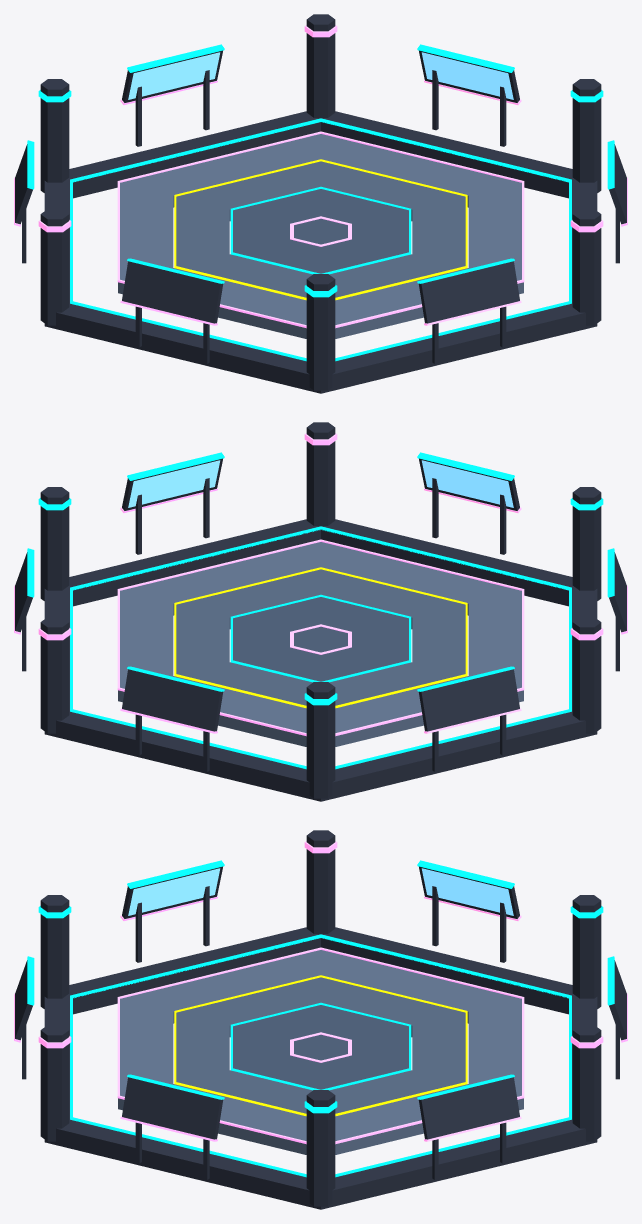
The model's file is sumo_arena.glb.
The picture shows the model from 3 angles, top to bottom: view 1: azimuth 30°, elevation 25°; view 2: azimuth 150°, elevation 25°; view 3: azimuth 270°, elevation 25°; orthographic projection.
Parts seen in each view (by area): view 1: Stadium_OuterWalkway, SumoRing_2_Deck, SumoRing_1_Deck, SumoRing_0_Deck, Stadium_OuterGlow, Stadium_BillboardFrame_3, Stadium_BillboardFrame_4, Stadium_Tower_4, Stadium_Tower_3, Stadium_Tower_5, Stadium_Tower_0, Stadium_Tower_2 (+12 smaller); view 2: Stadium_OuterWalkway, SumoRing_2_Deck, SumoRing_1_Deck, SumoRing_0_Deck, Stadium_OuterGlow, Stadium_BillboardFrame_1, Stadium_BillboardFrame_2, Stadium_Tower_2, Stadium_Tower_1, Stadium_Tower_3, Stadium_Tower_0, Stadium_Tower_4 (+12 smaller); view 3: Stadium_OuterWalkway, SumoRing_2_Deck, SumoRing_1_Deck, SumoRing_0_Deck, Stadium_OuterGlow, Stadium_BillboardFrame_0, Stadium_BillboardFrame_5, Stadium_Tower_0, Stadium_Tower_1, Stadium_Tower_5, Stadium_Tower_2, Stadium_Tower_4 (+12 smaller).
Boxes of the visible parts, left/top/right/bottom form: Stadium_OuterWalkway: left=44, top=111, right=597, bottom=393; SumoRing_2_Deck: left=118, top=134, right=523, bottom=338; SumoRing_1_Deck: left=176, top=161, right=465, bottom=297; SumoRing_0_Deck: left=233, top=189, right=408, bottom=273; Stadium_OuterGlow: left=70, top=118, right=571, bottom=361; Stadium_BillboardFrame_3: left=122, top=261, right=223, bottom=323; Stadium_BillboardFrame_4: left=418, top=261, right=519, bottom=323; Stadium_Tower_4: left=306, top=274, right=335, bottom=390; Stadium_Tower_3: left=40, top=209, right=69, bottom=325; Stadium_Tower_5: left=572, top=209, right=601, bottom=325; Stadium_Tower_0: left=572, top=79, right=601, bottom=192; Stadium_Tower_2: left=40, top=79, right=69, bottom=192; Stadium_OuterWalkway: left=44, top=519, right=597, bottom=801; SumoRing_2_Deck: left=118, top=542, right=523, bottom=746; SumoRing_1_Deck: left=176, top=569, right=465, bottom=705; SumoRing_0_Deck: left=233, top=597, right=408, bottom=681; Stadium_OuterGlow: left=70, top=526, right=571, bottom=769; Stadium_BillboardFrame_1: left=122, top=669, right=223, bottom=731; Stadium_BillboardFrame_2: left=418, top=669, right=519, bottom=731; Stadium_Tower_2: left=306, top=682, right=335, bottom=798; Stadium_Tower_1: left=40, top=617, right=69, bottom=733; Stadium_Tower_3: left=572, top=617, right=601, bottom=733; Stadium_Tower_0: left=40, top=487, right=69, bottom=600; Stadium_Tower_4: left=572, top=487, right=601, bottom=600; Stadium_OuterWalkway: left=44, top=927, right=597, bottom=1209; SumoRing_2_Deck: left=118, top=950, right=523, bottom=1154; SumoRing_1_Deck: left=176, top=977, right=465, bottom=1113; SumoRing_0_Deck: left=233, top=1005, right=408, bottom=1089; Stadium_OuterGlow: left=70, top=934, right=571, bottom=1177; Stadium_BillboardFrame_0: left=418, top=1077, right=519, bottom=1139; Stadium_BillboardFrame_5: left=122, top=1077, right=223, bottom=1139; Stadium_Tower_0: left=306, top=1090, right=335, bottom=1206; Stadium_Tower_1: left=572, top=1025, right=601, bottom=1141; Stadium_Tower_5: left=40, top=1025, right=69, bottom=1141; Stadium_Tower_2: left=572, top=895, right=601, bottom=1008; Stadium_Tower_4: left=40, top=895, right=69, bottom=1008.
Size of the model in its own units: 49.37 by 9.3 by 47.16.
